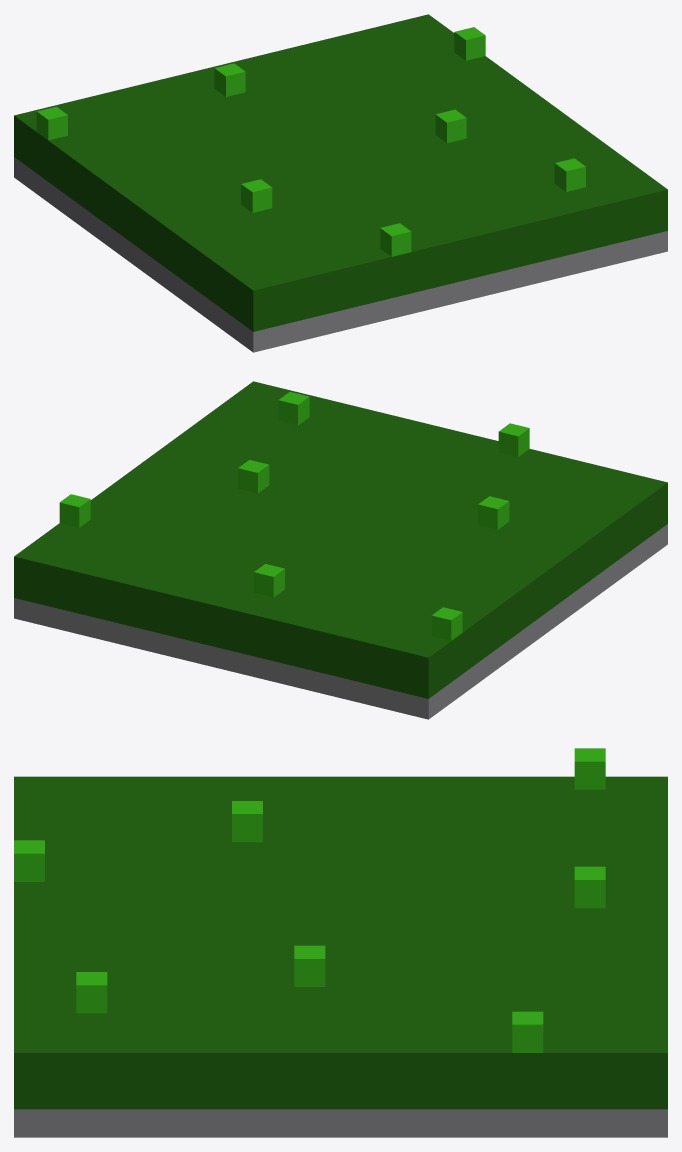
File: grass1.obj
3 renders of one model, top to bottom at view 1: azimuth 30°, elevation 25°; view 2: azimuth 150°, elevation 25°; view 3: azimuth 270°, elevation 25°, orthographic. The views are drawn at different scales.
Bounding box in the file's own units: 21 × 4 × 21.
1 material, 1 textured.
